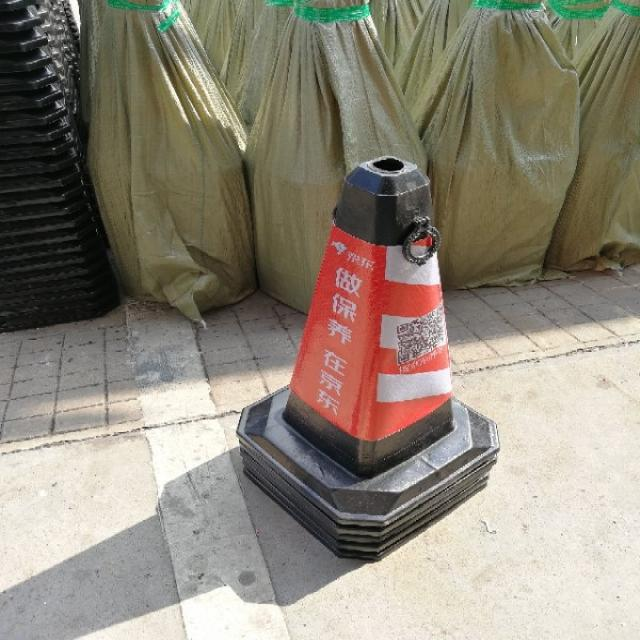reflective_cone: (235, 158, 506, 524)
